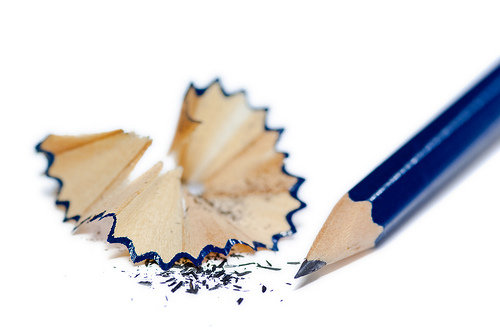pen_tip: (294, 178, 394, 288)
